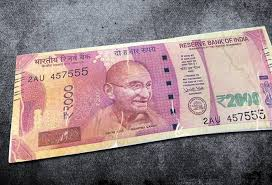twoThousand: (35, 63, 270, 128)
